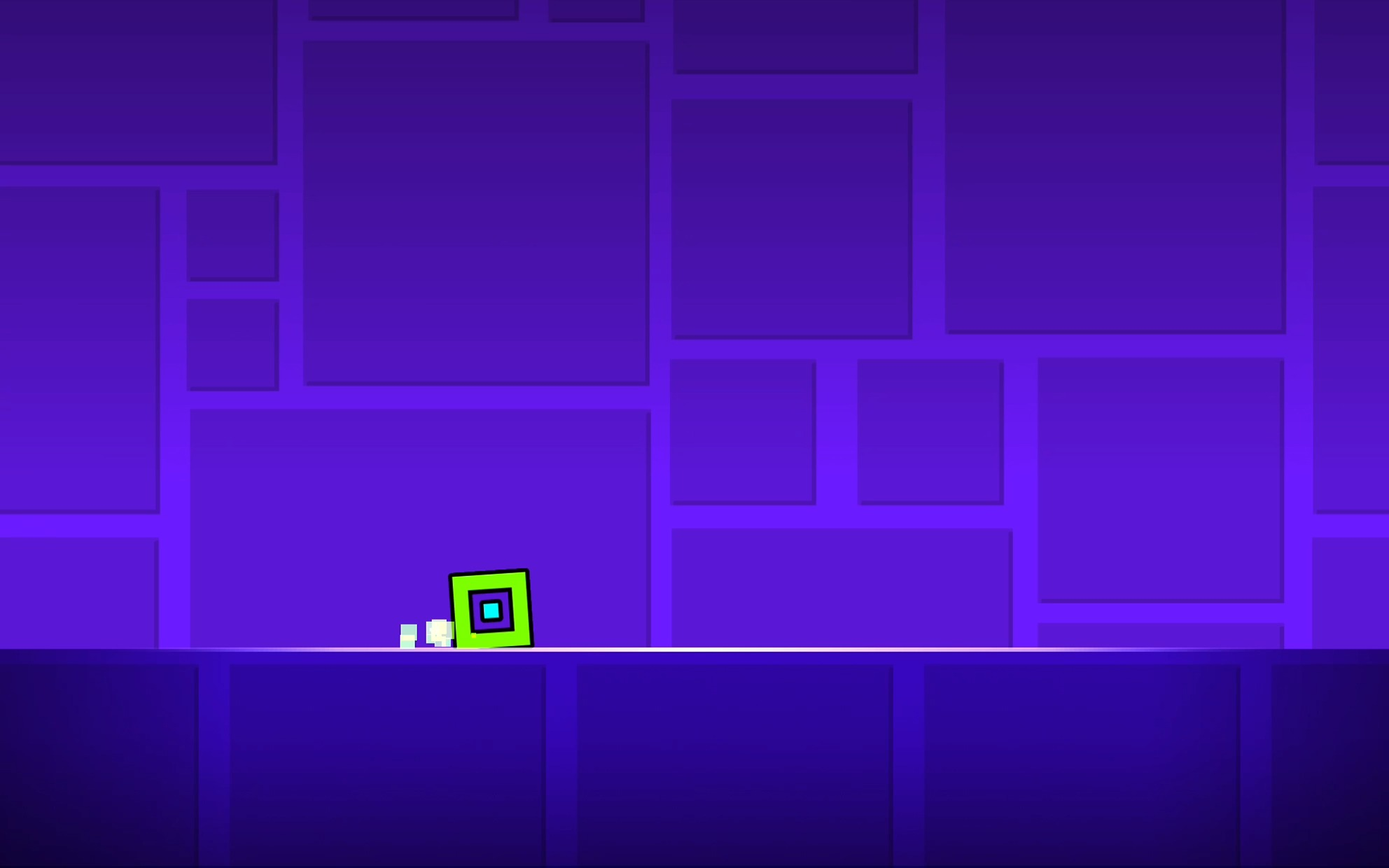Player: (449, 570, 533, 646)
